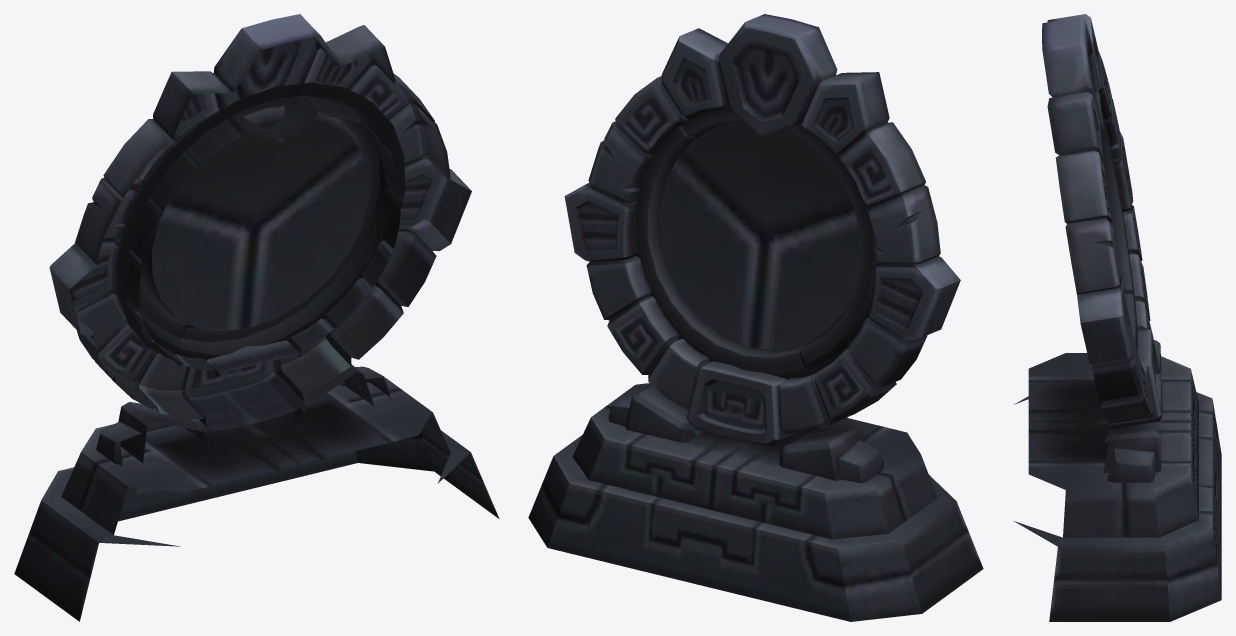
Rendered from [GIMMICK]stone_slab_base (merge).fbx.
3 views of the same model, side by side, from view 1: azimuth 30°, elevation 25°; view 2: azimuth 150°, elevation 25°; view 3: azimuth 270°, elevation 25° (orthographic). The views are drawn at different scales.
Visible parts, largest first — view 1: [GIMMICK]stone_slab_base; view 2: [GIMMICK]stone_slab_base; view 3: [GIMMICK]stone_slab_base.
Boxes of the visible parts, left/top/right/bottom form: [GIMMICK]stone_slab_base: left=14, top=14, right=499, bottom=621; [GIMMICK]stone_slab_base: left=528, top=14, right=983, bottom=621; [GIMMICK]stone_slab_base: left=1013, top=14, right=1221, bottom=621.
Bounding box in the file's own units: 2.21 × 2.71 × 1.03.
Materials: 1 (1 with a texture image).
